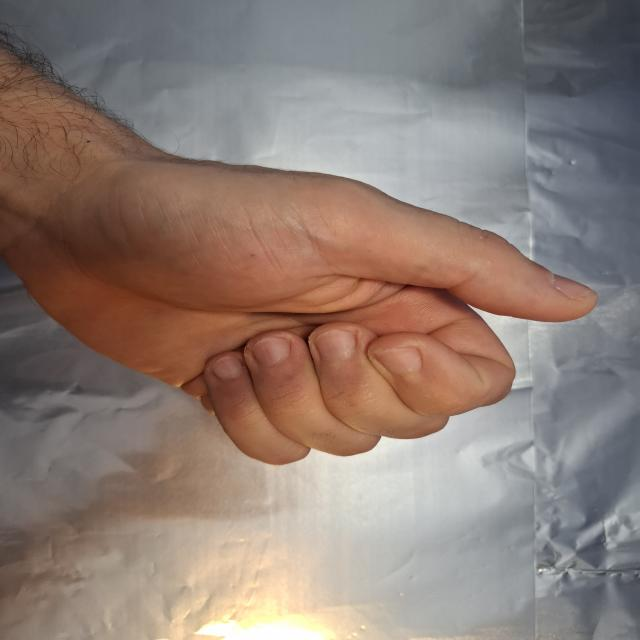glove_off: (14, 94, 604, 470)
